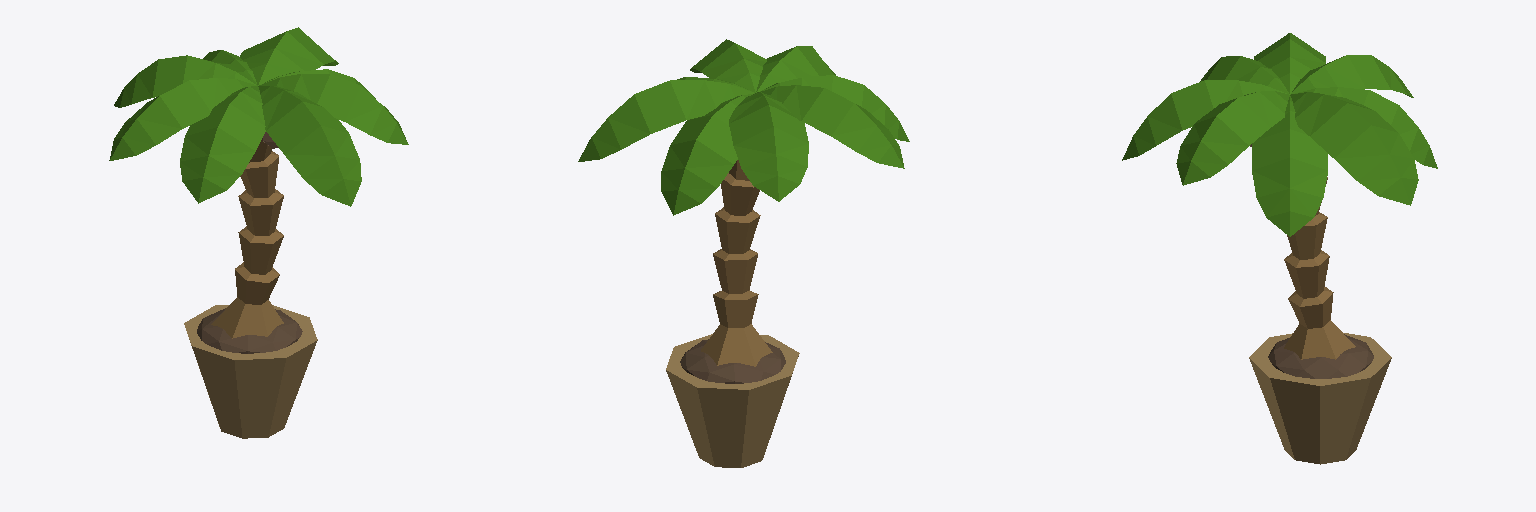
Rendered from HousePlants3.obj.
3 views of the same model, side by side, from view 1: azimuth 30°, elevation 25°; view 2: azimuth 150°, elevation 25°; view 3: azimuth 270°, elevation 25° (orthographic).
Parts seen in each view (by area): view 1: mergedBlocks; view 2: mergedBlocks; view 3: mergedBlocks.
Part boxes in pixels (left/top/right/bottom): mergedBlocks: left=109, top=27, right=408, bottom=438; mergedBlocks: left=578, top=39, right=909, bottom=467; mergedBlocks: left=1122, top=33, right=1437, bottom=464.
Size of the model in its own units: 1.71 by 2.15 by 1.65.